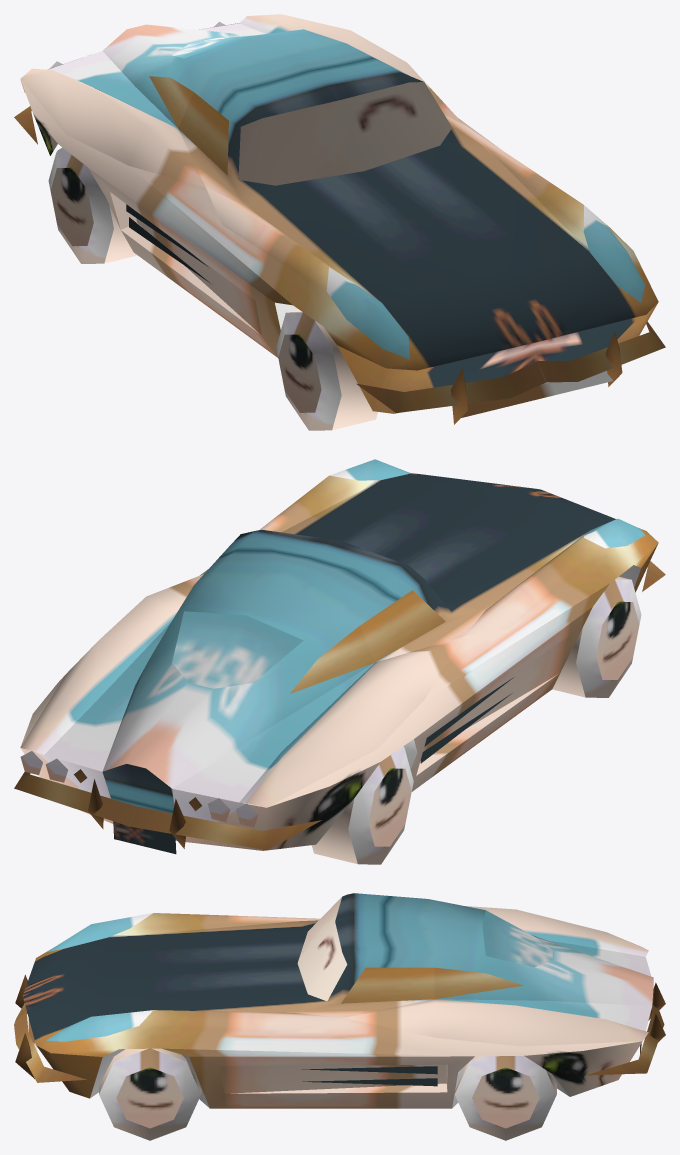
The model's file is view.ico.obj.
The picture shows the model from 3 angles, top to bottom: view 1: azimuth 30°, elevation 25°; view 2: azimuth 150°, elevation 25°; view 3: azimuth 270°, elevation 25°; orthographic projection. The views are drawn at different scales.
Bounding box in the file's own units: 2.26 × 1.41 × 5.
